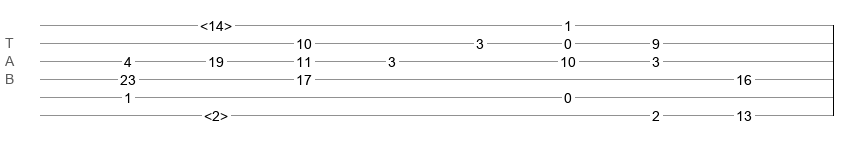0: (564, 36, 572, 46), (564, 90, 572, 100)
1: (124, 90, 132, 100), (564, 18, 572, 28)
10: (296, 36, 312, 46), (560, 54, 576, 64)
11: (296, 54, 312, 64)
13: (736, 108, 752, 118)
16: (736, 72, 752, 82)
17: (296, 72, 312, 82)
19: (208, 54, 224, 64)
2: (652, 108, 660, 118)
23: (120, 72, 136, 82)
3: (388, 54, 396, 64), (476, 36, 484, 46), (652, 54, 660, 64)
4: (124, 54, 132, 64)
9: (652, 36, 660, 46)
harmonic: (200, 18, 232, 28), (204, 108, 228, 118)
